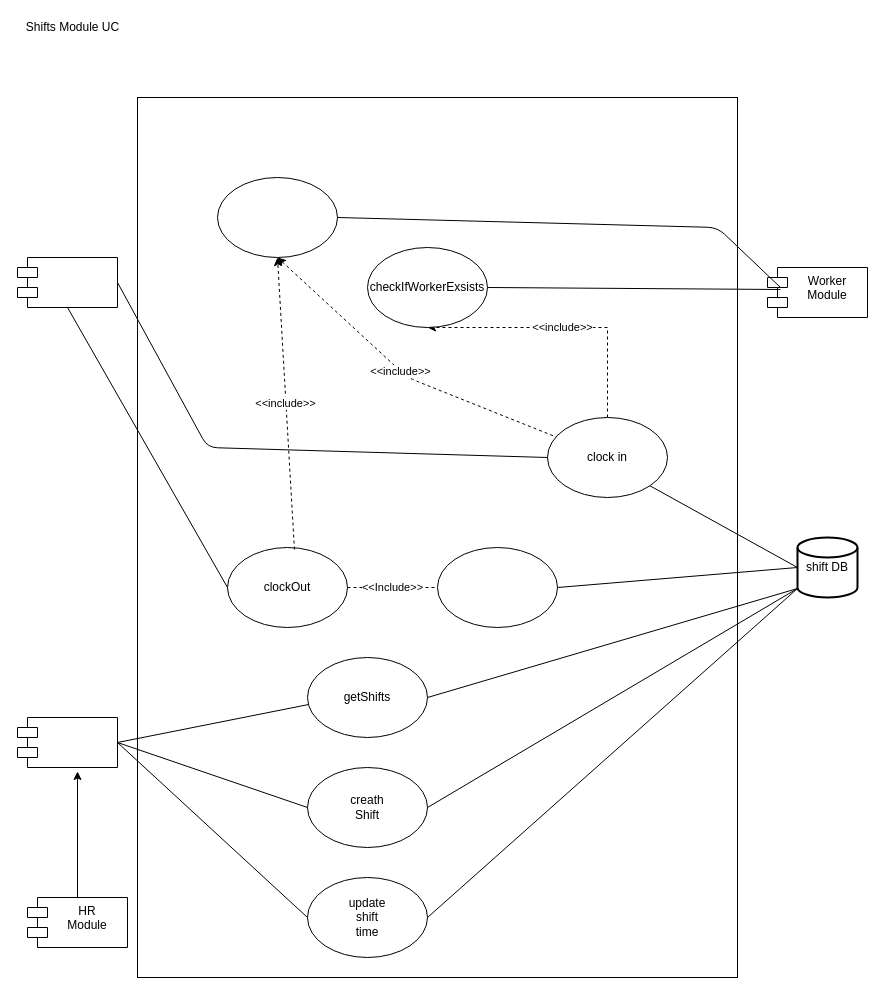
Image size: 885x995. Some labels were removed from this diagram. The centre of each missing label's shape, as x and y in pixels:
genarate shifts: (497,587)
manger Module: (67,742)
Shift Front Module: (67,282)
update worker active status: (277,217)
